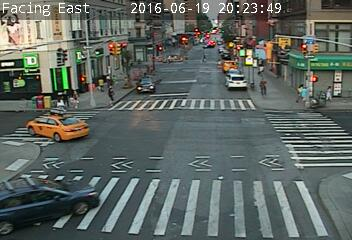neg: (278, 83, 299, 112), (34, 176, 52, 200), (126, 56, 144, 80), (276, 35, 294, 59), (16, 95, 32, 116), (283, 51, 297, 70), (80, 66, 93, 84), (121, 50, 134, 68), (307, 102, 320, 120)
pos: (253, 74, 272, 100), (66, 87, 85, 113), (101, 81, 120, 106), (55, 86, 72, 109), (322, 83, 337, 103), (93, 76, 106, 93)
